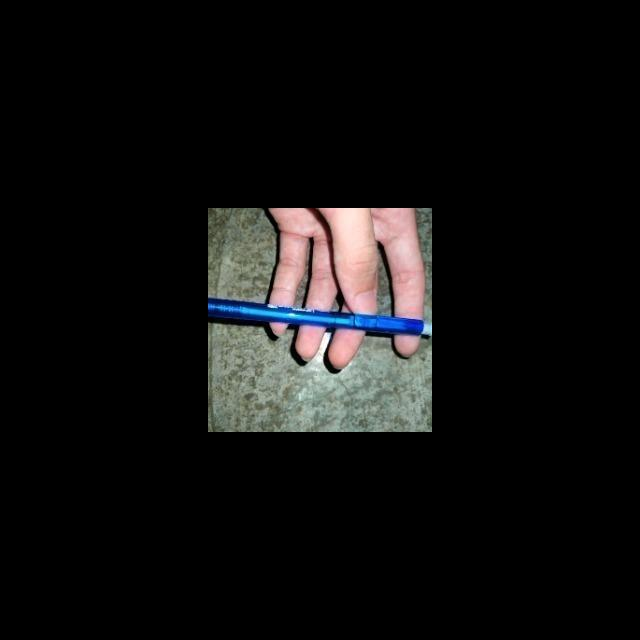plastic: (208, 286, 432, 349)
